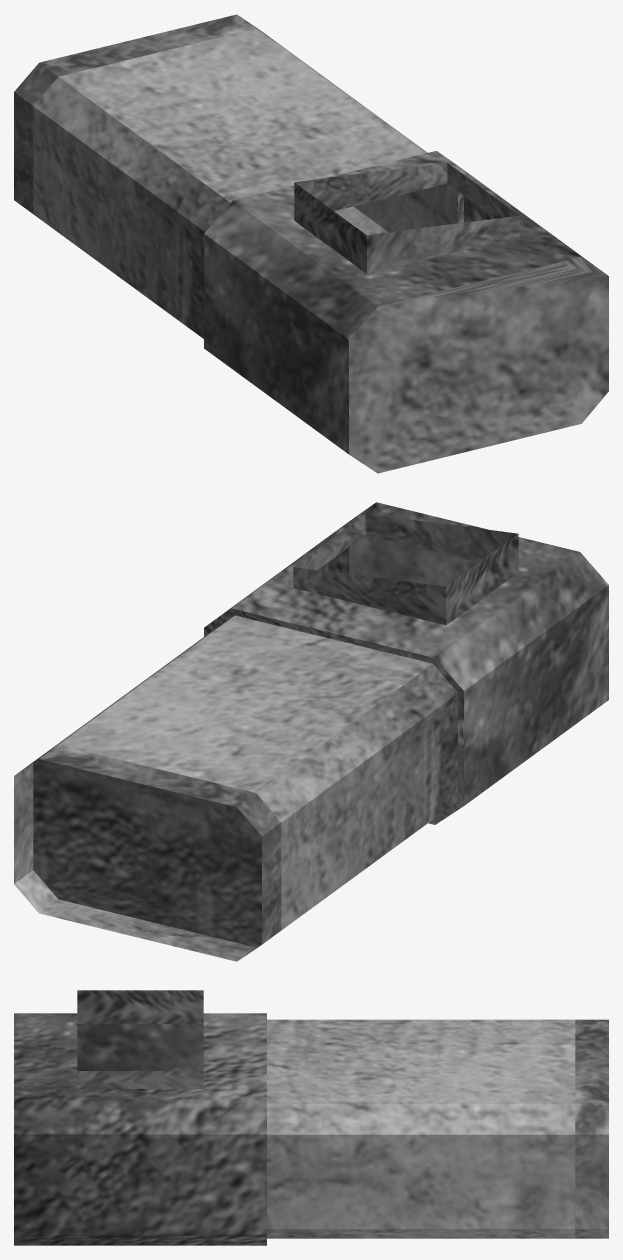
File: MissileLauncher.obj
3 views of the same model, one above another, from view 1: azimuth 30°, elevation 25°; view 2: azimuth 150°, elevation 25°; view 3: azimuth 270°, elevation 25° (orthographic). The views are drawn at different scales.
Visible parts, largest first — view 1: Cube.000_Cube.002; view 2: Cube.000_Cube.002; view 3: Cube.000_Cube.002.
Boxes of the visible parts, box(x1,y1,x2,y2) form: Cube.000_Cube.002: box(14, 14, 608, 473); Cube.000_Cube.002: box(14, 502, 608, 961); Cube.000_Cube.002: box(14, 990, 608, 1245).
Bounding box in the file's own units: 1.76 × 1.33 × 4.
1 material, 1 textured.
